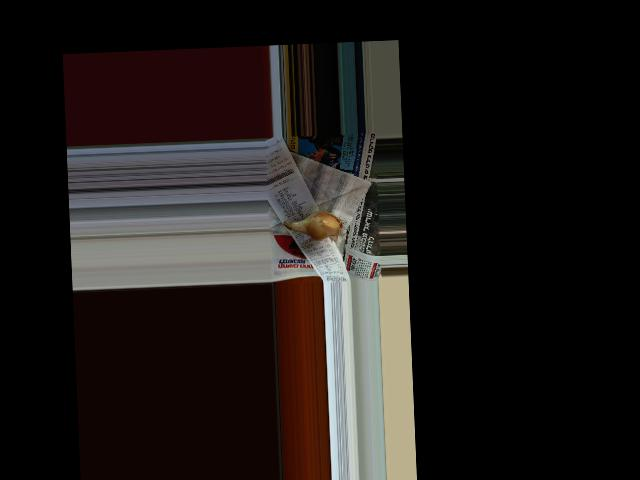onion: (298, 207, 345, 240)
